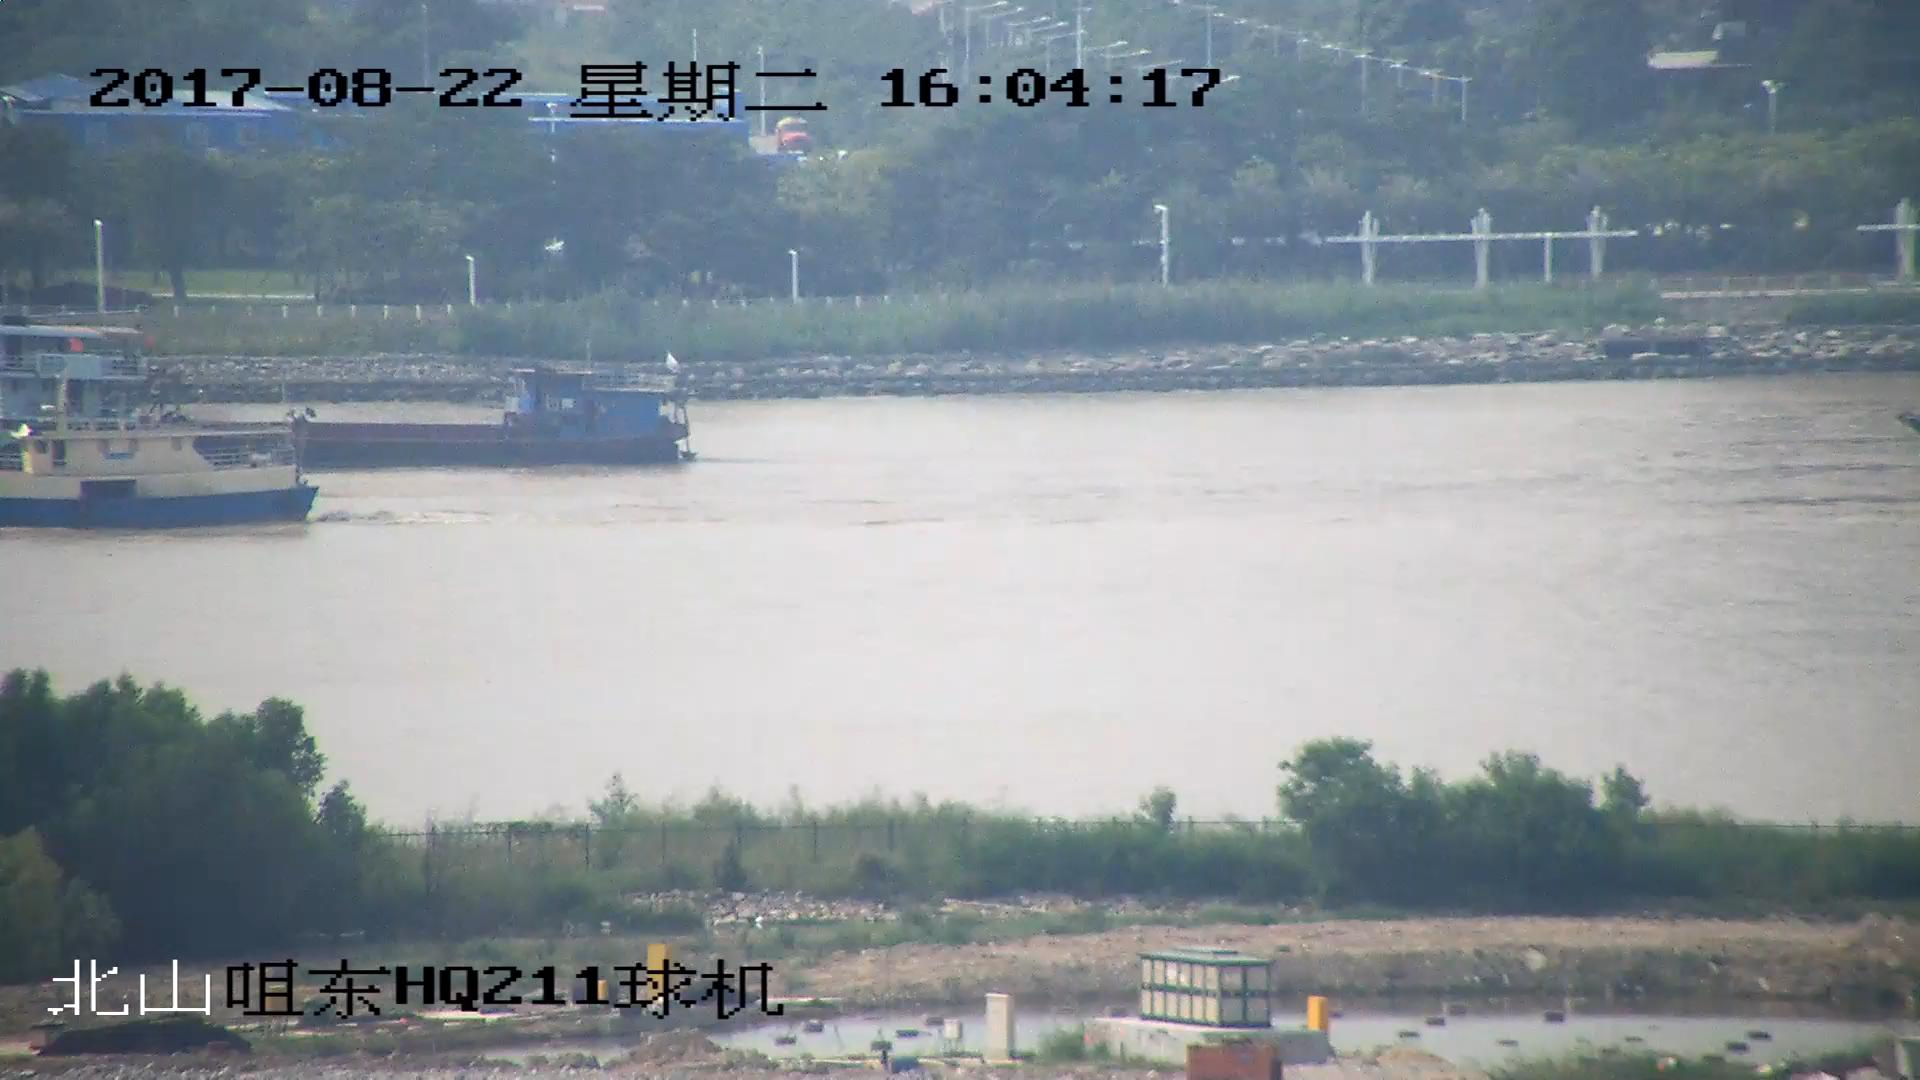bulk cargo carrier: (89, 358, 704, 471)
fishing boat: (1, 340, 335, 533)
